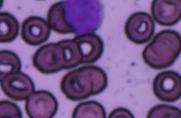L: (62, 0, 104, 35)
